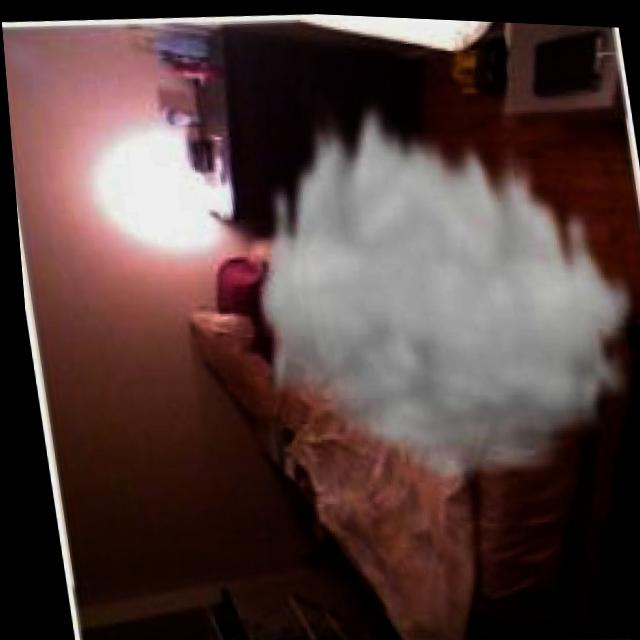no_helmet: (214, 62, 640, 506)
